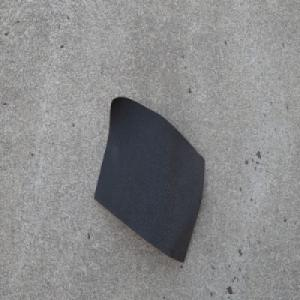PaintChip: (93, 96, 205, 263)
